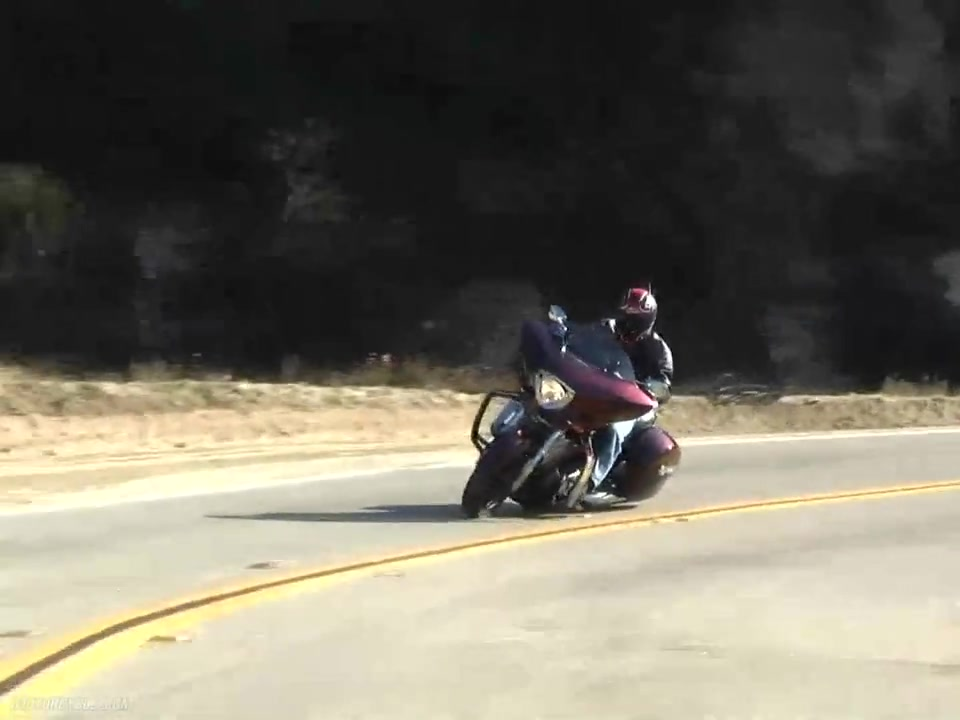motorbike: (460, 306, 683, 520)
